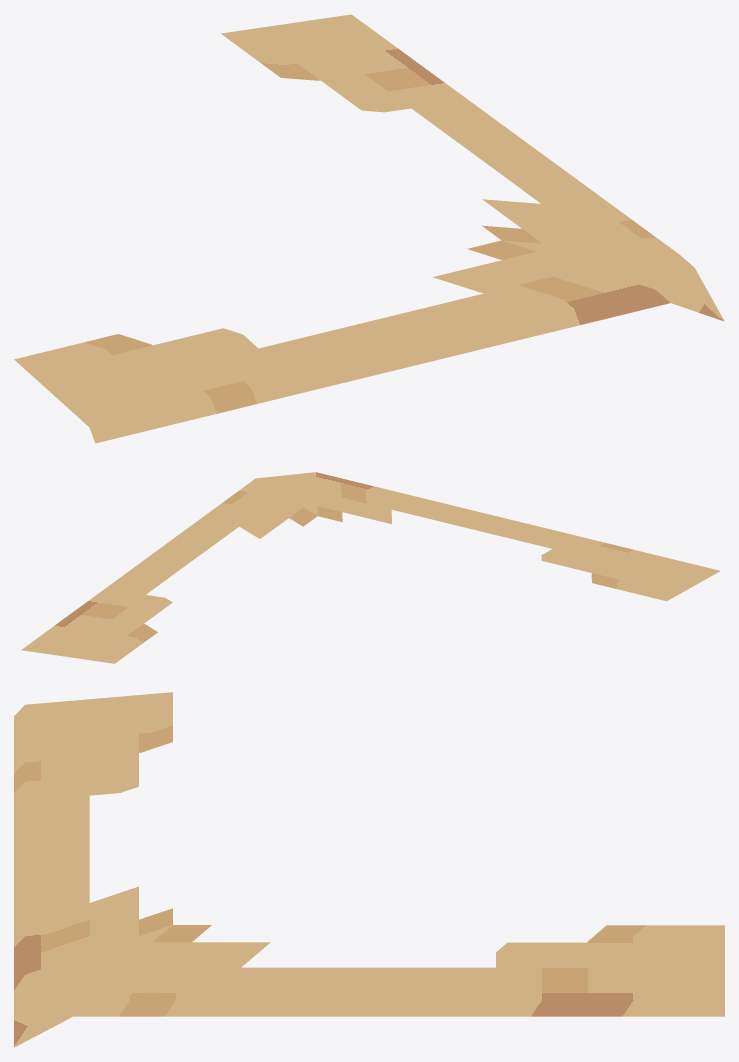
The picture shows the model from 3 angles, top to bottom: view 1: azimuth 30°, elevation 25°; view 2: azimuth 150°, elevation 25°; view 3: azimuth 270°, elevation 25°; orthographic projection. The views are drawn at different scales.
Size of the model in its own units: 1 by 0.0857 by 1.
1 material, 1 textured.
